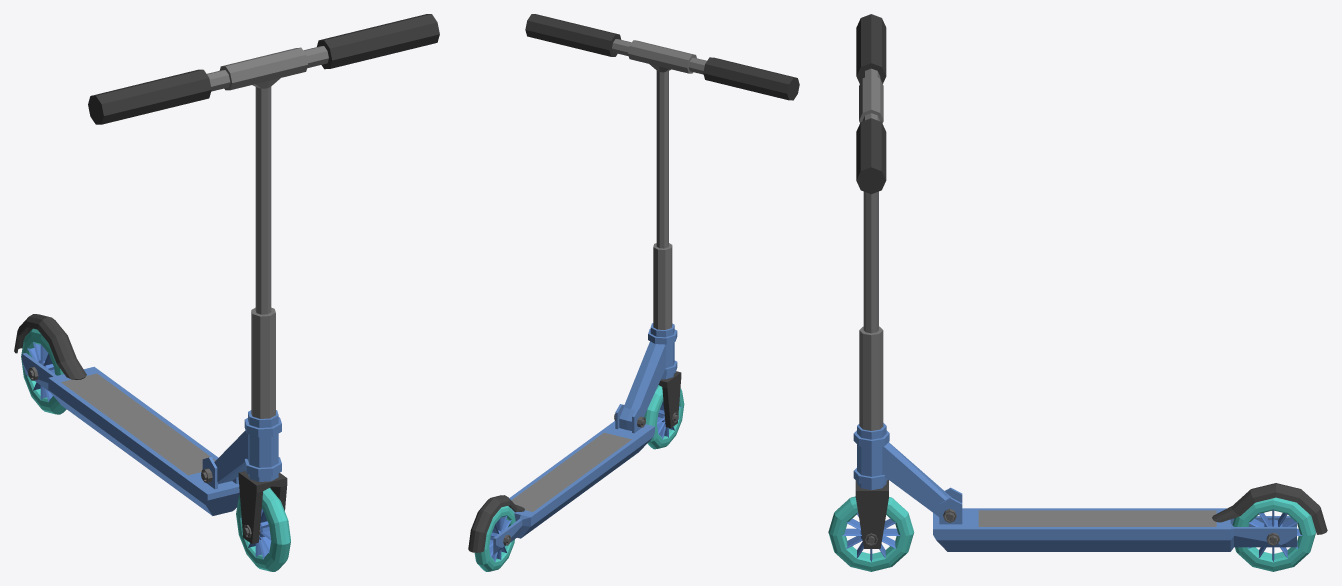
The model's file is Scooter.fbx.
3 renders of one model, left to right at view 1: azimuth 30°, elevation 25°; view 2: azimuth 150°, elevation 25°; view 3: azimuth 270°, elevation 25°, orthographic. The views are drawn at different scales.
Parts seen in each view (by area): view 1: Scooter Frame, Handle Bars 1, Handle Bars 2, Right Handle Bar, Left Handle Bar, Scooter, Front Wheel, Break, Rear Wheel; view 2: Scooter Frame, Handle Bars 1, Scooter, Right Handle Bar, Handle Bars 2, Left Handle Bar, Rear Wheel, Front Wheel, Break; view 3: Scooter Frame, Handle Bars 2, Scooter, Front Wheel, Rear Wheel, Handle Bars 1, Left Handle Bar, Right Handle Bar, Break.
Part boxes in pixels (x1,y1,x2,y2): Scooter Frame: [22, 353, 239, 515]; Handle Bars 1: [219, 47, 307, 314]; Handle Bars 2: [238, 307, 287, 544]; Right Handle Bar: [88, 69, 230, 124]; Left Handle Bar: [303, 14, 439, 69]; Scooter: [214, 410, 281, 484]; Front Wheel: [236, 488, 290, 571]; Break: [14, 314, 86, 379]; Rear Wheel: [21, 328, 66, 414]; Scooter Frame: [493, 404, 654, 554]; Handle Bars 1: [628, 40, 696, 248]; Scooter: [619, 323, 677, 430]; Right Handle Bar: [688, 57, 799, 100]; Handle Bars 2: [653, 243, 681, 428]; Left Handle Bar: [525, 14, 631, 56]; Rear Wheel: [474, 506, 515, 571]; Front Wheel: [644, 385, 684, 449]; Break: [468, 495, 524, 552]; Scooter Frame: [933, 487, 1296, 551]; Handle Bars 2: [855, 326, 888, 548]; Scooter: [853, 423, 951, 516]; Front Wheel: [828, 496, 914, 571]; Rear Wheel: [1232, 497, 1316, 571]; Handle Bars 1: [859, 75, 883, 333]; Left Handle Bar: [856, 113, 886, 194]; Right Handle Bar: [856, 14, 886, 83]; Break: [1212, 483, 1327, 534].
Bounding box in the file's own units: 591 × 864 × 814.
